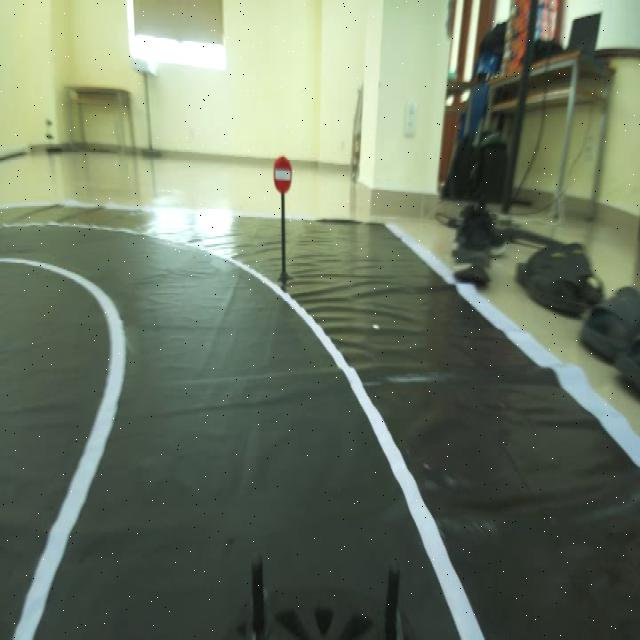no_entry: (266, 144, 300, 203)
